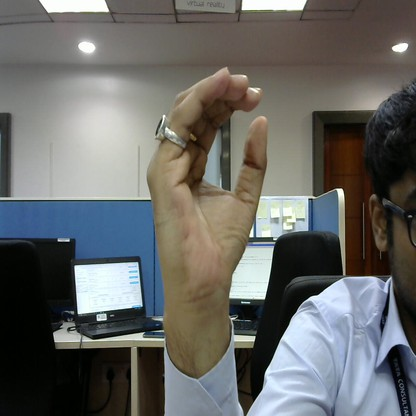c: (135, 55, 269, 301)
